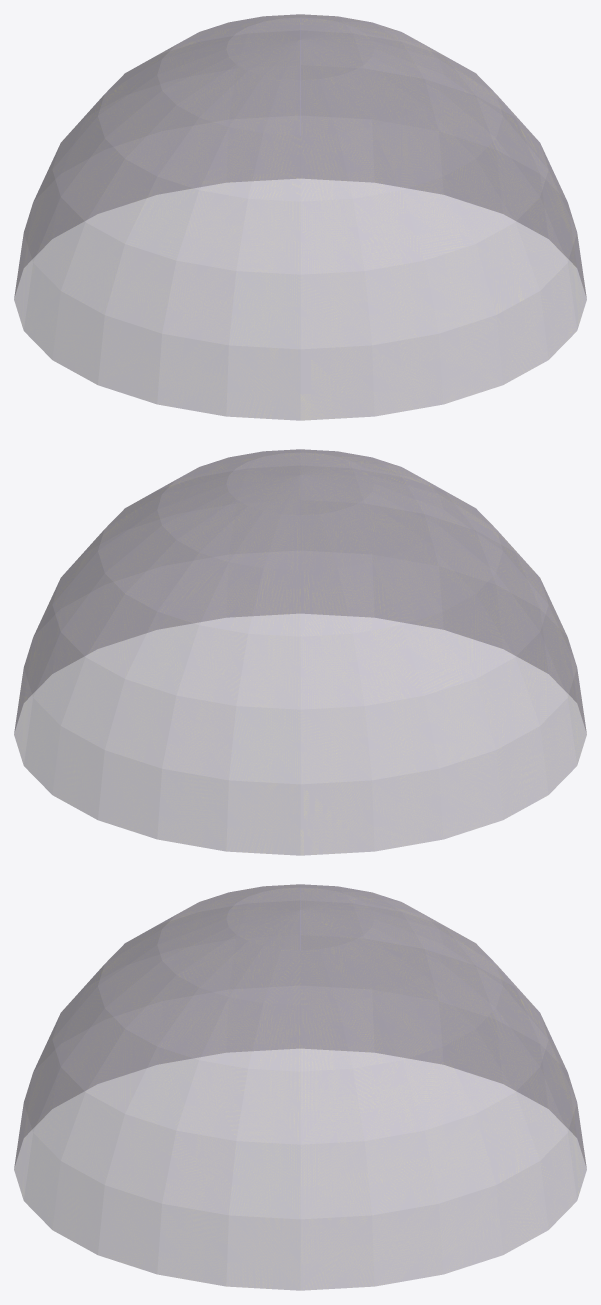
File: yellow_25_opacity_dome.dae
3 renders of one model, top to bottom at view 1: azimuth 30°, elevation 25°; view 2: azimuth 150°, elevation 25°; view 3: azimuth 270°, elevation 25°, orthographic.
Parts seen in each view (by area): view 1: Component1; view 2: Component1; view 3: Component1.
Boxes of the visible parts, left/top/right/bottom form: Component1: left=14, top=14, right=586, bottom=420; Component1: left=14, top=449, right=586, bottom=855; Component1: left=14, top=884, right=586, bottom=1290.
Bounding box in the file's own units: 245371 × 245371 × 132150.
